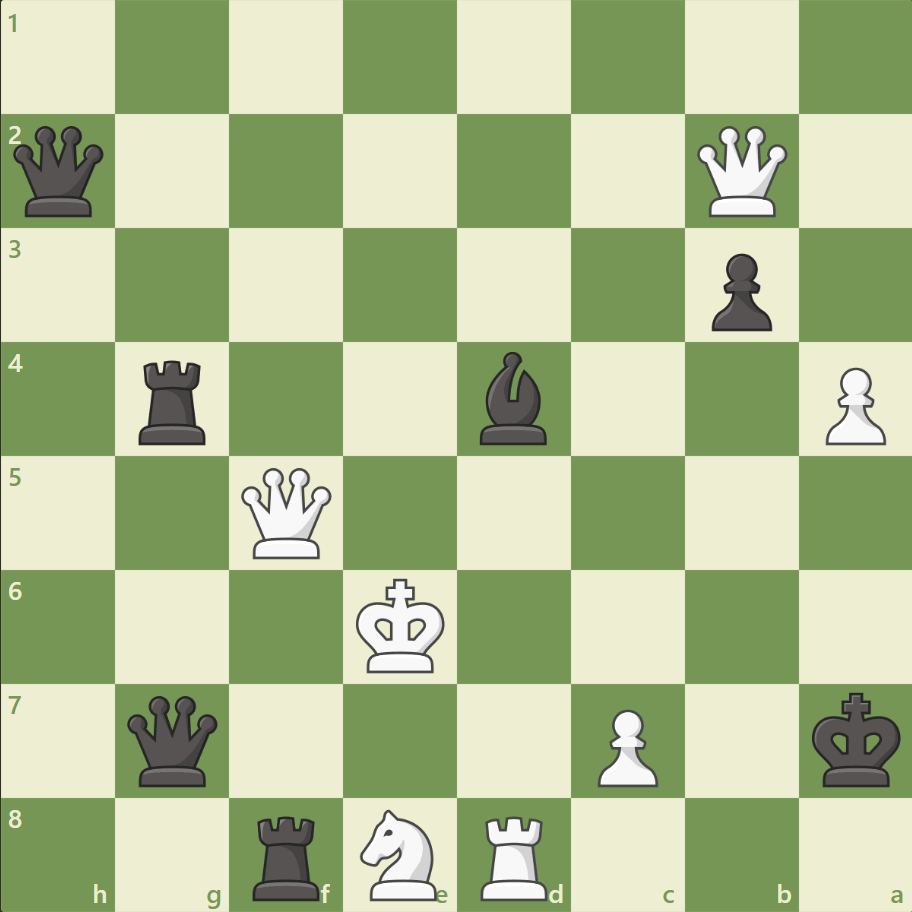K: (351, 571, 451, 679)
N: (351, 802, 449, 904)
P: (588, 700, 662, 791), (815, 359, 889, 450)
Q: (691, 122, 790, 222), (237, 463, 336, 562)
R: (473, 806, 556, 904)
b: (471, 347, 555, 449)
k: (806, 685, 906, 793)
p: (701, 246, 776, 337)
q: (10, 122, 109, 222), (124, 690, 223, 789)
r: (246, 806, 329, 904), (133, 352, 215, 449)
